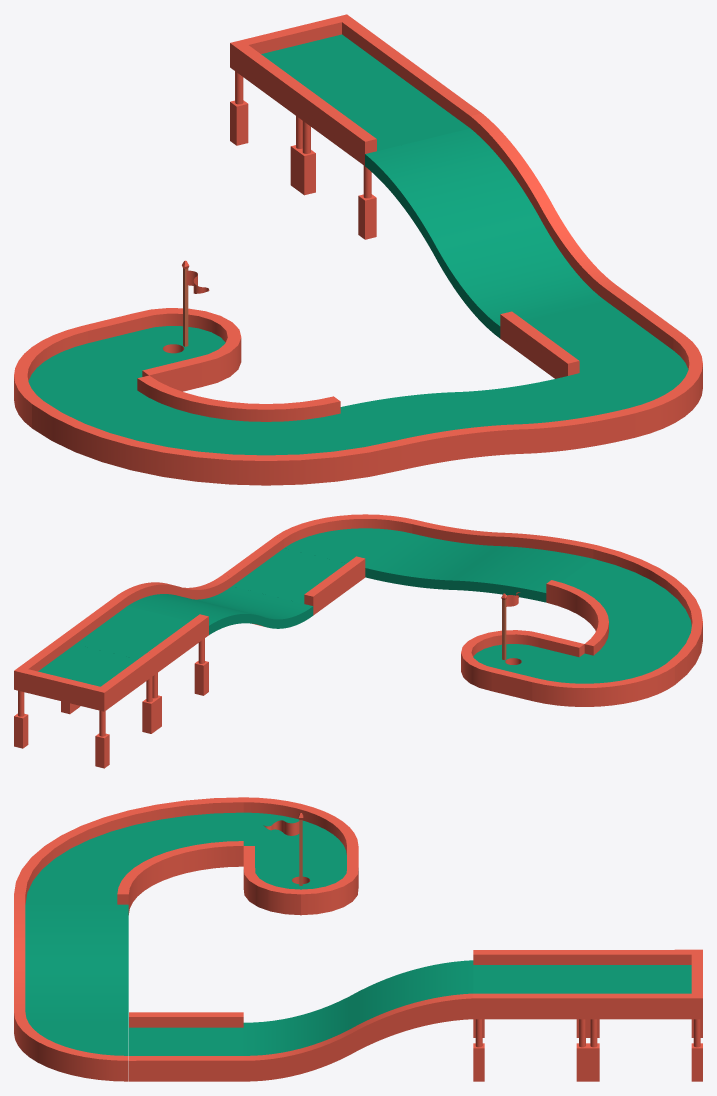
Rendered from Level2.fbx.
The picture shows the model from 3 angles, top to bottom: view 1: azimuth 30°, elevation 25°; view 2: azimuth 150°, elevation 25°; view 3: azimuth 270°, elevation 25°; orthographic projection. The views are drawn at different scales.
Parts seen in each view (by area): view 1: slope_side_smoothC_long, bend_large, straight (×2), slope_side_smoothA_long, bend_open (×2), end, end_roundHole, detail_supports (×2), detail_flag; view 2: bend_large, slope_side_smoothA_long, straight (×2), bend_open (×2), end, slope_side_smoothC_long, end_roundHole, detail_supports (×2), detail_flag; view 3: bend_large, straight (×2), slope_side_smoothC_long, slope_side_smoothA_long, bend_open (×2), end, end_roundHole, detail_supports (×2), detail_flag.
Boxes of the visible parts, x1,y1,x2,y2 form: slope_side_smoothC_long: [365, 113, 616, 338]; bend_large: [32, 375, 401, 485]; straight (×2): [297, 64, 684, 378]; slope_side_smoothA_long: [340, 376, 635, 470]; bend_open (×2): [14, 326, 702, 437]; end: [230, 14, 414, 116]; end_roundHole: [82, 308, 241, 391]; detail_supports (×2): [230, 71, 376, 239]; detail_flag: [182, 260, 209, 346]; bend_large: [546, 545, 702, 684]; slope_side_smoothA_long: [365, 520, 598, 602]; straight (×2): [66, 536, 365, 672]; bend_open (×2): [275, 514, 674, 706]; end: [14, 632, 156, 711]; slope_side_smoothC_long: [119, 575, 313, 634]; end_roundHole: [461, 630, 584, 700]; detail_supports (×2): [14, 638, 208, 768]; detail_flag: [501, 592, 520, 660]; bend_large: [14, 797, 243, 914]; straight (×2): [129, 950, 587, 1081]; slope_side_smoothC_long: [243, 960, 473, 1081]; slope_side_smoothA_long: [14, 894, 128, 1022]; bend_open (×2): [14, 797, 358, 1081]; end: [588, 949, 702, 1019]; end_roundHole: [243, 846, 358, 915]; detail_supports (×2): [473, 1019, 702, 1081]; detail_flag: [263, 813, 303, 885].
Size of the model in its own units: 50 by 9.92 by 60.
